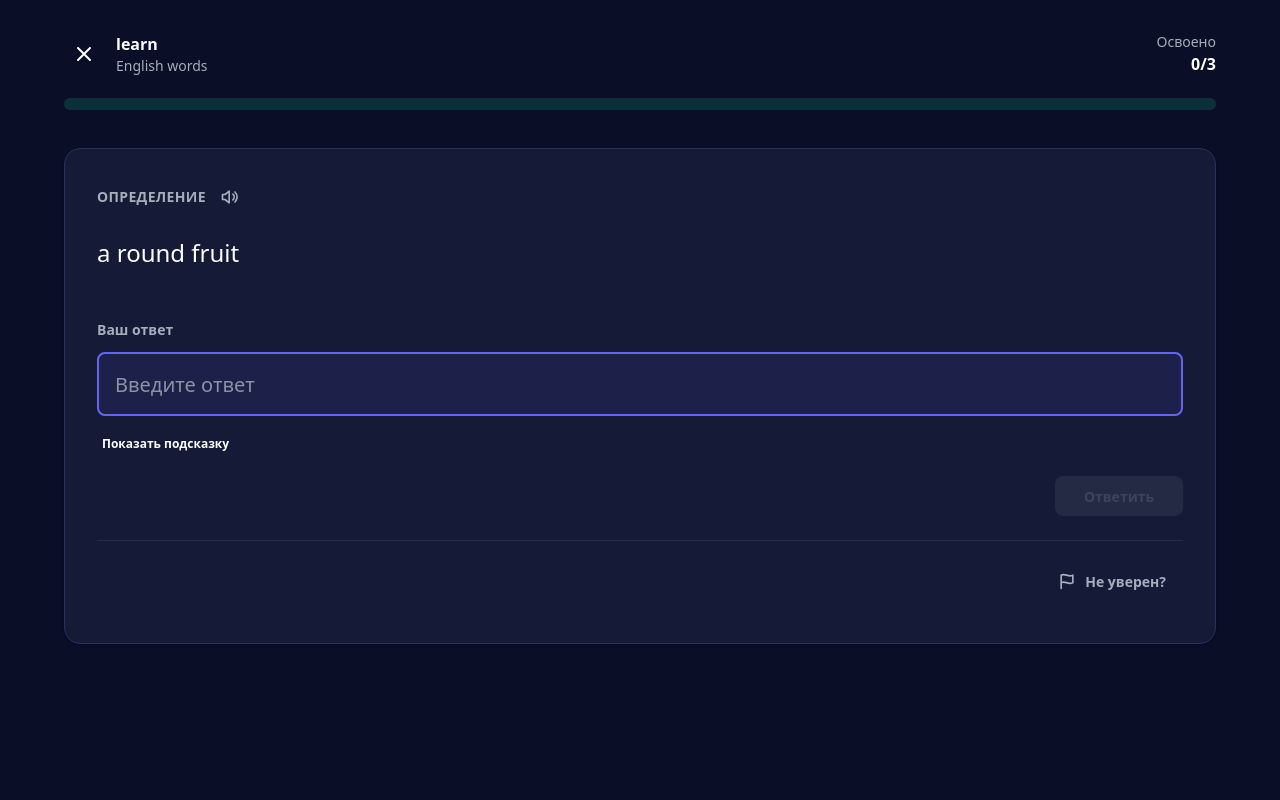
it: LearnExercise › accepts a written answer and shows immediate feedback
Type "  APPLE  " into the field labelled "Ваш ответ" at [640, 384], box [97,352,1183,416]
Then press Enter
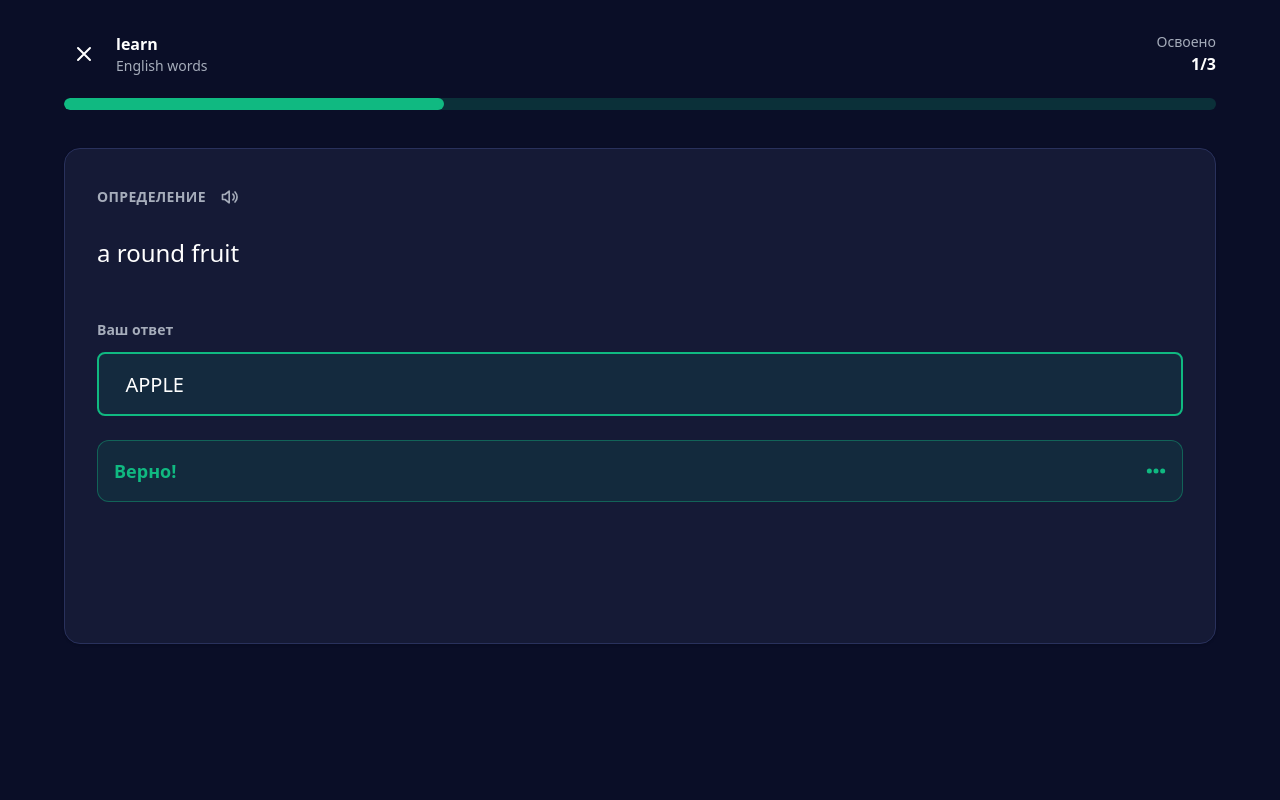
Expected: the message reads "Верно!", [114,459,176,483]
Expected: the progress indicator named "Общий прогресс: 33%" is shown, [64,98,1216,110]
